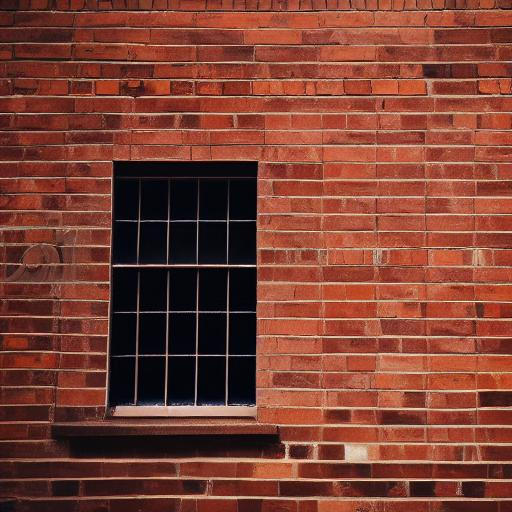Window: (50, 146, 285, 441)
